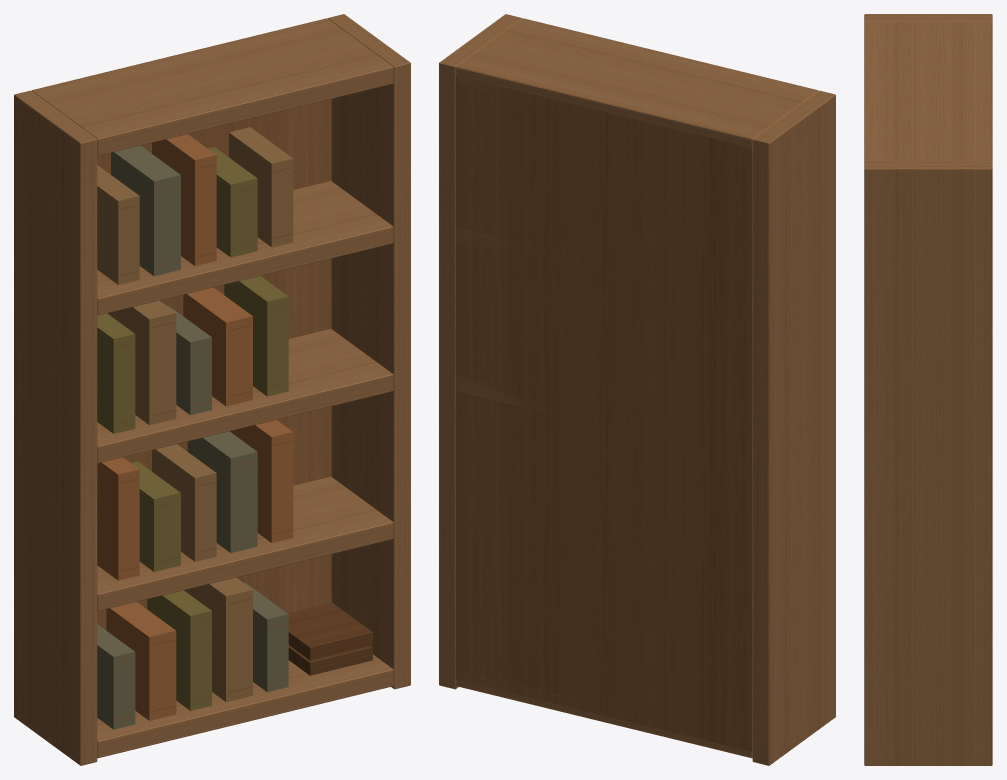
Rendered from bookshelf.glb.
The picture shows the model from 3 angles, left to right: view 1: azimuth 30°, elevation 25°; view 2: azimuth 150°, elevation 25°; view 3: azimuth 270°, elevation 25°; orthographic projection. The views are drawn at different scales.
Parts seen in each view (by area): view 1: home_bookshelf; view 2: home_bookshelf; view 3: home_bookshelf.
Part boxes in pixels (<box>): home_bookshelf: <box>14,14,410,765</box>; home_bookshelf: <box>439,14,835,765</box>; home_bookshelf: <box>864,14,992,765</box>.
Bounding box in the file's own units: 1 × 1.8 × 0.35.
1 material, 1 textured.
